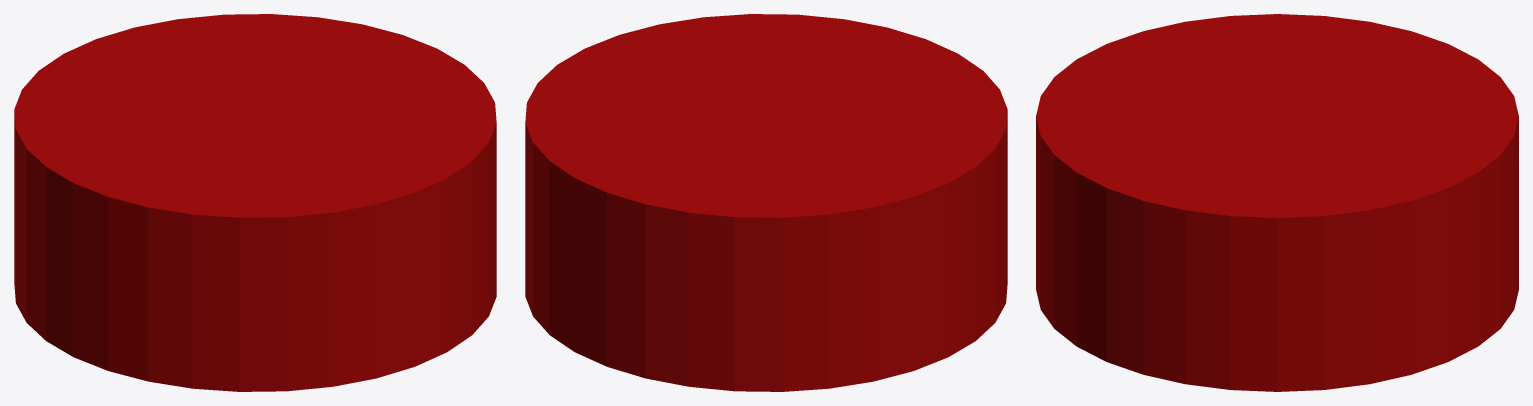
The model's file is Tutup botol.fbx.
3 views of the same model, side by side, from view 1: azimuth 30°, elevation 25°; view 2: azimuth 150°, elevation 25°; view 3: azimuth 270°, elevation 25° (orthographic).
Visible parts, largest first — view 1: Cylinder; view 2: Cylinder; view 3: Cylinder.
Boxes of the visible parts, box(x1,y1,x2,y2) form: Cylinder: box(14, 14, 496, 391); Cylinder: box(525, 14, 1007, 391); Cylinder: box(1036, 14, 1518, 391).
Size of the model in its own units: 35.94 by 14.29 by 35.94.
